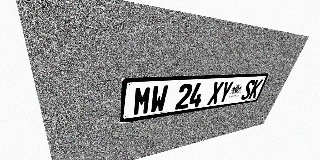2: (175, 83, 193, 110)
4: (188, 83, 206, 108)
K: (248, 79, 263, 99)
M: (132, 86, 152, 116)
S: (240, 80, 256, 100)
W: (149, 85, 169, 114)
X: (207, 81, 224, 105)
Y: (217, 81, 234, 104)
